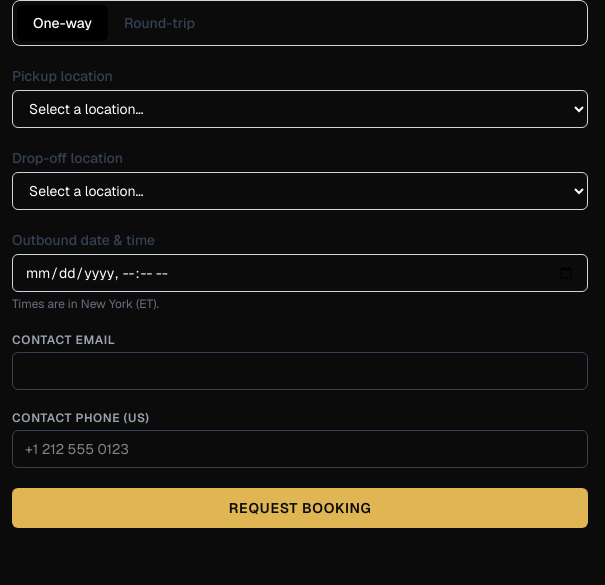
Test case: BookingForm › shows a validation error when required fields are missing
Click the button with test id "booking-submit" at (300, 508), box [12,488,588,528]
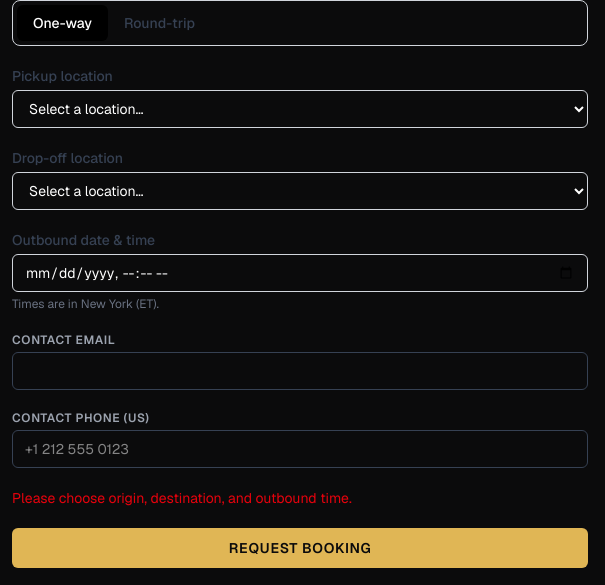
Result: the message "Please choose origin, destination, and outbound time." is shown at [12,489,352,507]
